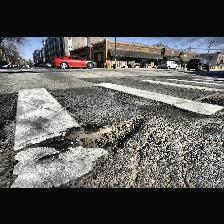pothole: (60, 113, 146, 153)
